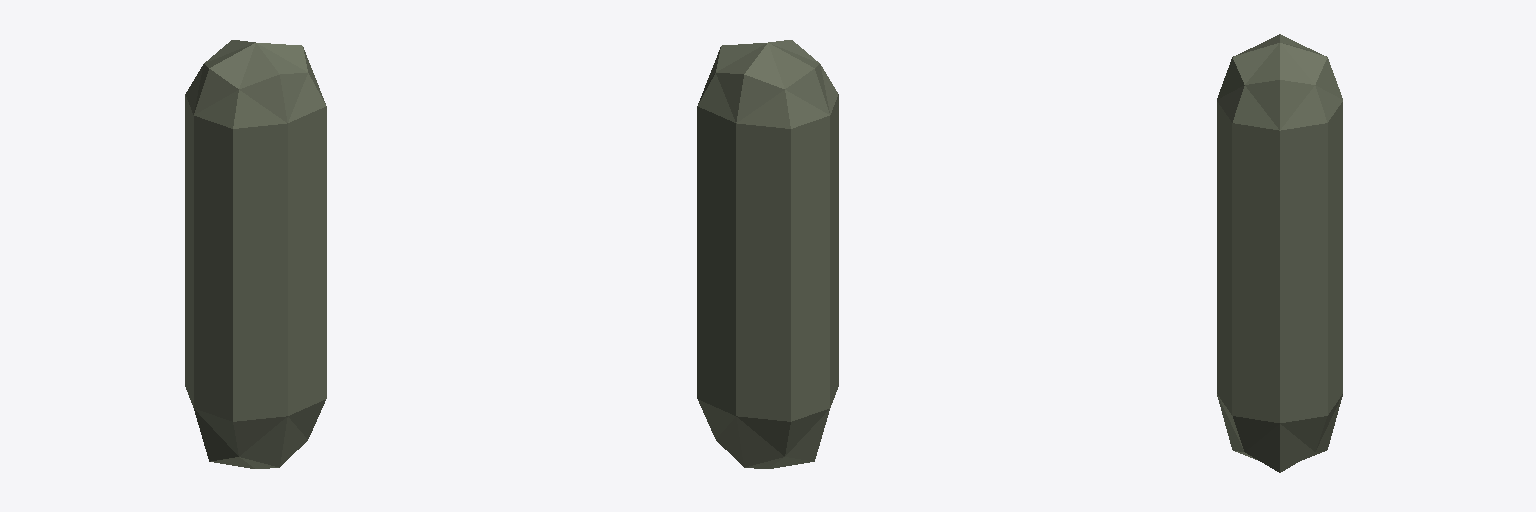
Rendered from Numbers_1.obj.
3 renders of one model, left to right at view 1: azimuth 30°, elevation 25°; view 2: azimuth 150°, elevation 25°; view 3: azimuth 270°, elevation 25°, orthographic.
Visible parts, largest first — view 1: Numbers_1_Cube.027; view 2: Numbers_1_Cube.027; view 3: Numbers_1_Cube.027.
Part boxes in pixels (x1,y1,x2,y2): Numbers_1_Cube.027: (185, 40, 326, 468); Numbers_1_Cube.027: (697, 40, 838, 468); Numbers_1_Cube.027: (1217, 34, 1342, 472).
Bounding box in the file's own units: 0.3333 × 1.09 × 0.2939.